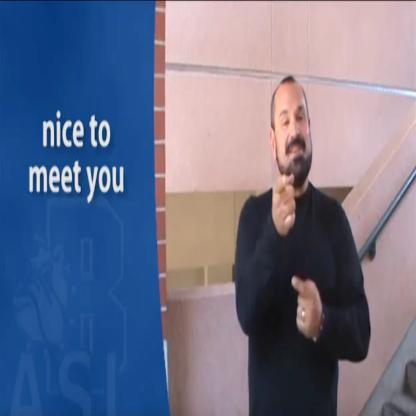NiceToMeetYou: (258, 162, 346, 359)
